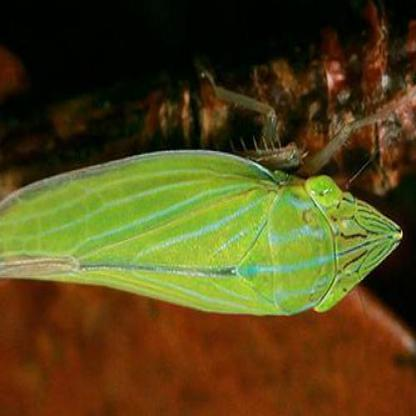green-leafhopper: (1, 148, 398, 318)
